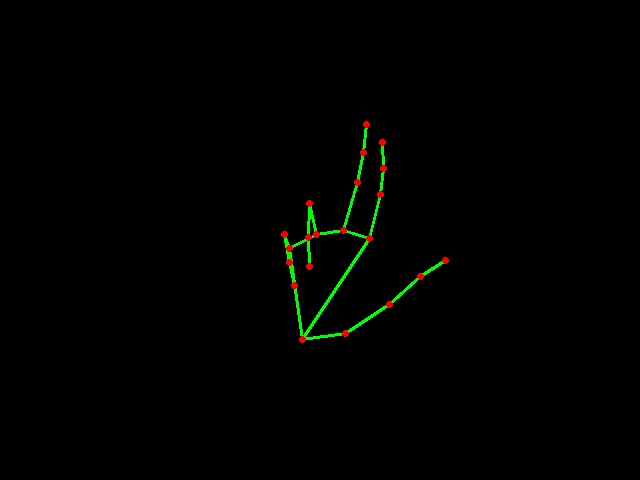forward: (276, 107, 458, 351)
